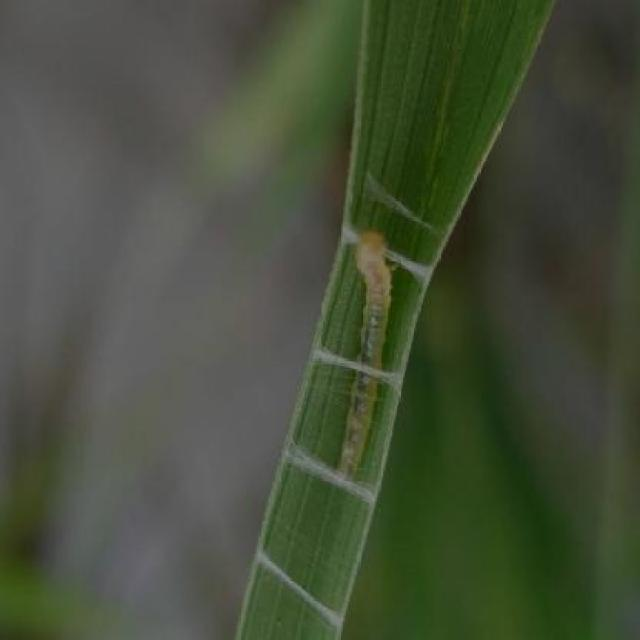leaf-folder: (335, 226, 394, 497)
